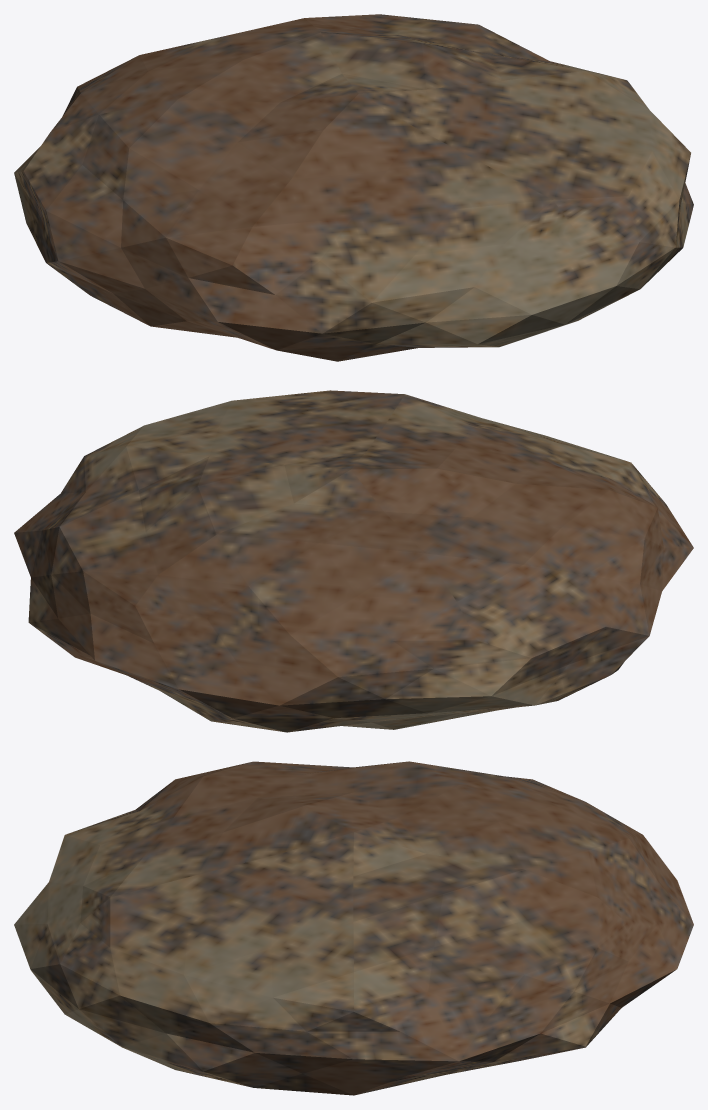
File: rock.glb
3 renders of one model, top to bottom at view 1: azimuth 30°, elevation 25°; view 2: azimuth 150°, elevation 25°; view 3: azimuth 270°, elevation 25°, orthographic.
Visible parts, largest first — view 1: rock2; view 2: rock2; view 3: rock2.
Part boxes in pixels (box(x1,y1,x2,y2)): rock2: box(14, 14, 693, 361); rock2: box(14, 390, 693, 732); rock2: box(14, 761, 693, 1095).
Bounding box in the file's own units: 2.17 × 0.6671 × 2.22.
Materials: 1 (1 with a texture image).
